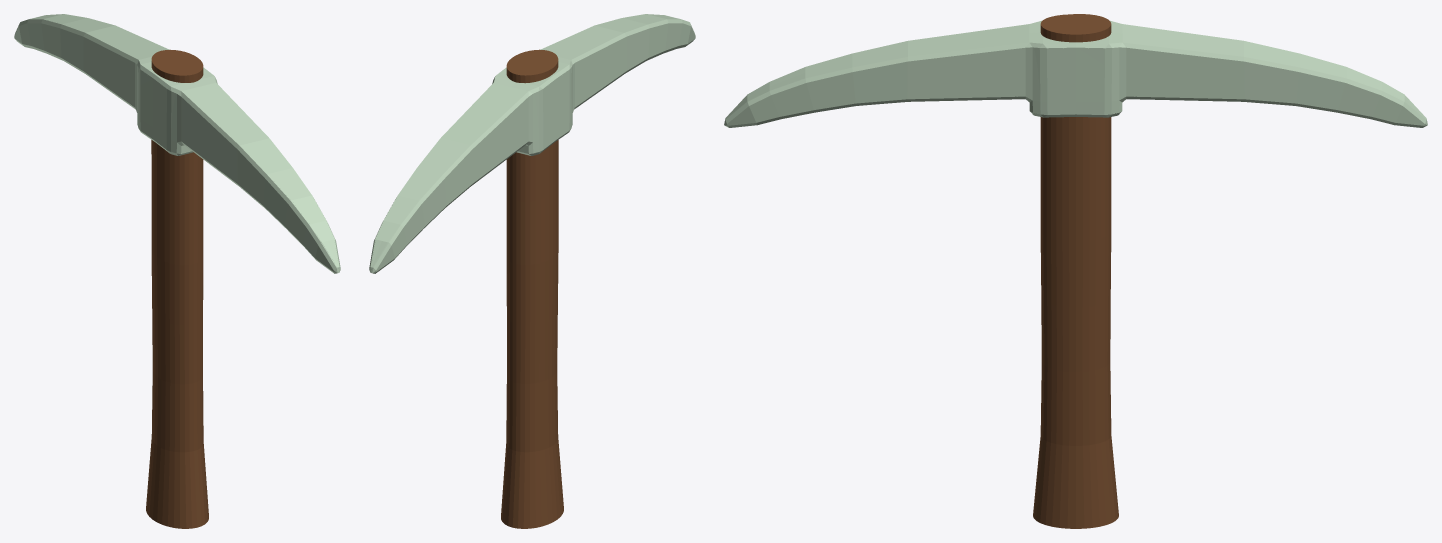
The model's file is PickaxeIron.fbx.
3 views of the same model, side by side, from view 1: azimuth 30°, elevation 25°; view 2: azimuth 150°, elevation 25°; view 3: azimuth 270°, elevation 25° (orthographic). The views are drawn at different scales.
Visible parts, largest first — view 1: Cylinder, Cube; view 2: Cylinder, Cube; view 3: Cube, Cylinder.
Boxes of the visible parts, x1,y1,x2,y2 form: Cylinder: (146, 49, 208, 528); Cube: (14, 14, 340, 273); Cylinder: (501, 49, 563, 528); Cube: (369, 14, 695, 273); Cube: (724, 20, 1427, 127); Cylinder: (1033, 14, 1118, 528).
Bounding box in the file's own units: 154 × 1339 × 1734.
